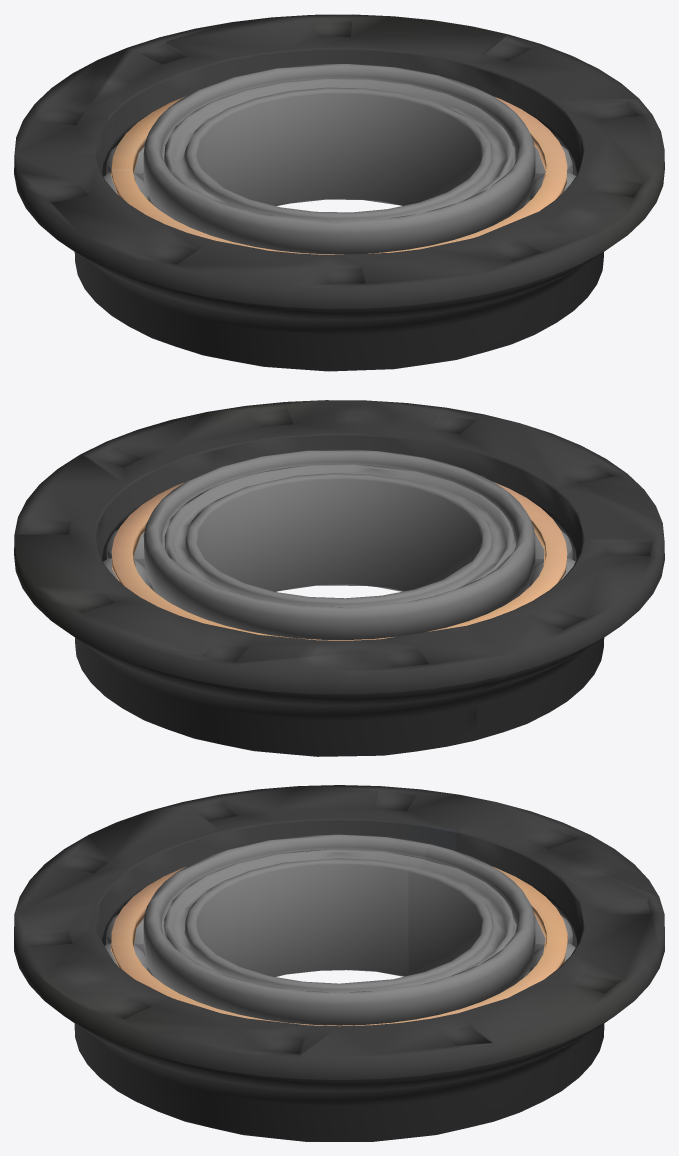
File: consumable_bearing_ball_a01.glb
3 renders of one model, top to bottom at view 1: azimuth 30°, elevation 25°; view 2: azimuth 150°, elevation 25°; view 3: azimuth 270°, elevation 25°, orthographic.
Visible parts, largest first — view 1: part0; view 2: part0; view 3: part0.
Boxes of the visible parts, box(x1,y1,x2,y2) form: part0: box(14, 14, 664, 371); part0: box(14, 400, 664, 756); part0: box(14, 785, 664, 1141).
Bounding box in the file's own units: 0.0379 × 0.00759 × 0.0378.
1 material, 1 textured.
